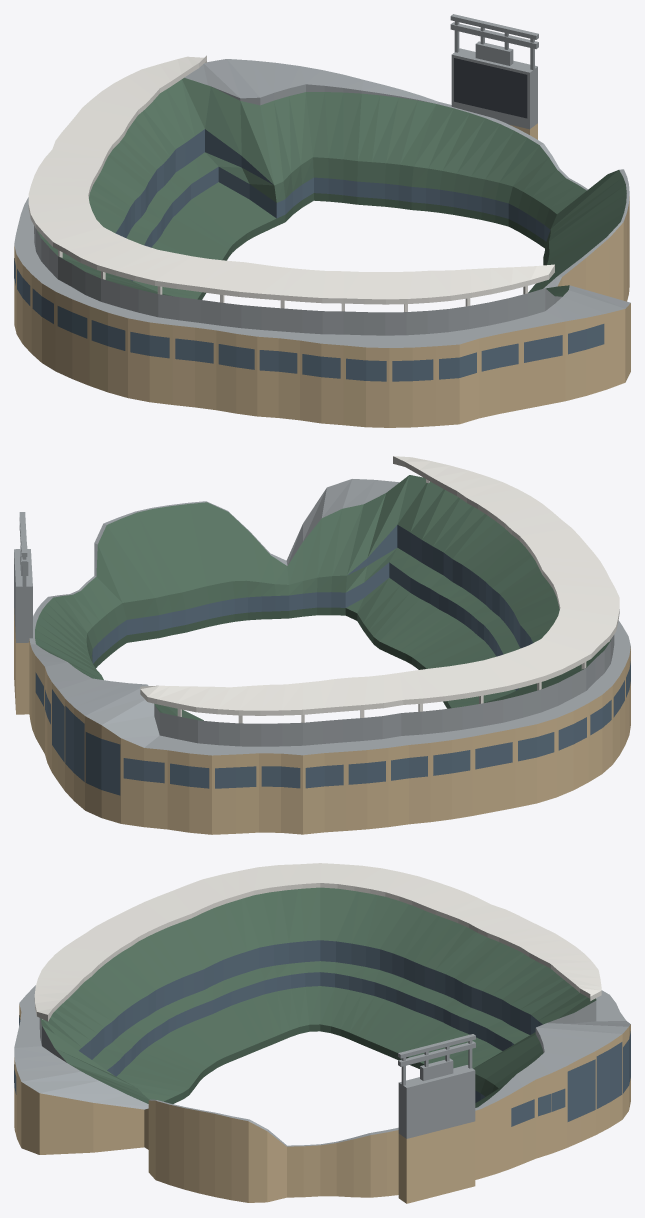
File: msp-target-field.glb
3 views of the same model, one above another, from view 1: azimuth 30°, elevation 25°; view 2: azimuth 150°, elevation 25°; view 3: azimuth 270°, elevation 25° (orthographic). The views are drawn at different scales.
Parts seen in each view (by area): view 1: Target Field; view 2: Target Field; view 3: Target Field.
Boxes of the visible parts, left/top/right/bottom form: Target Field: left=14, top=14, right=630, bottom=427; Target Field: left=14, top=456, right=630, bottom=834; Target Field: left=14, top=863, right=630, bottom=1203.
Size of the model in its own units: 221 by 63.8 by 241.
